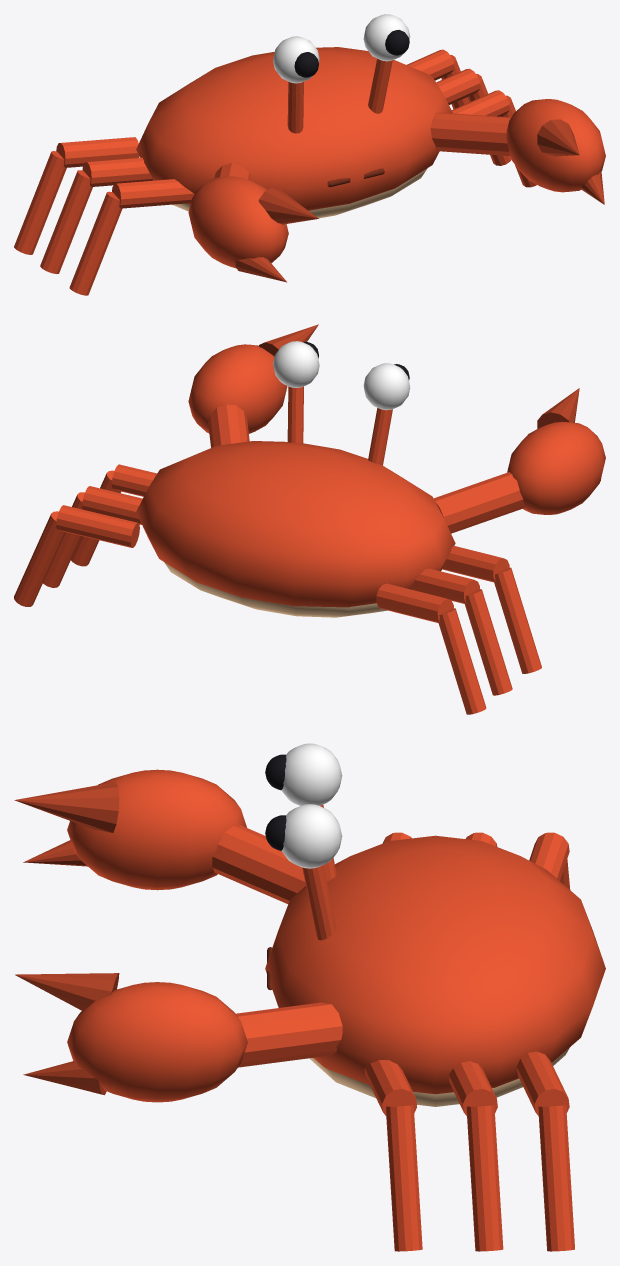
3 renders of one model, top to bottom at view 1: azimuth 30°, elevation 25°; view 2: azimuth 150°, elevation 25°; view 3: azimuth 270°, elevation 25°, orthographic. The views are drawn at different scales.
Visible parts, largest first — view 1: Crab; view 2: Crab; view 3: Crab.
Boxes of the visible parts, x1=… form: Crab: x1=14, y1=14, x2=605, y2=295; Crab: x1=14, y1=324, x2=605, y2=714; Crab: x1=14, y1=743, x2=605, y2=1251.
Size of the model in its own units: 4.15 by 2.01 by 3.3.
Materials: 1 (1 with a texture image).
